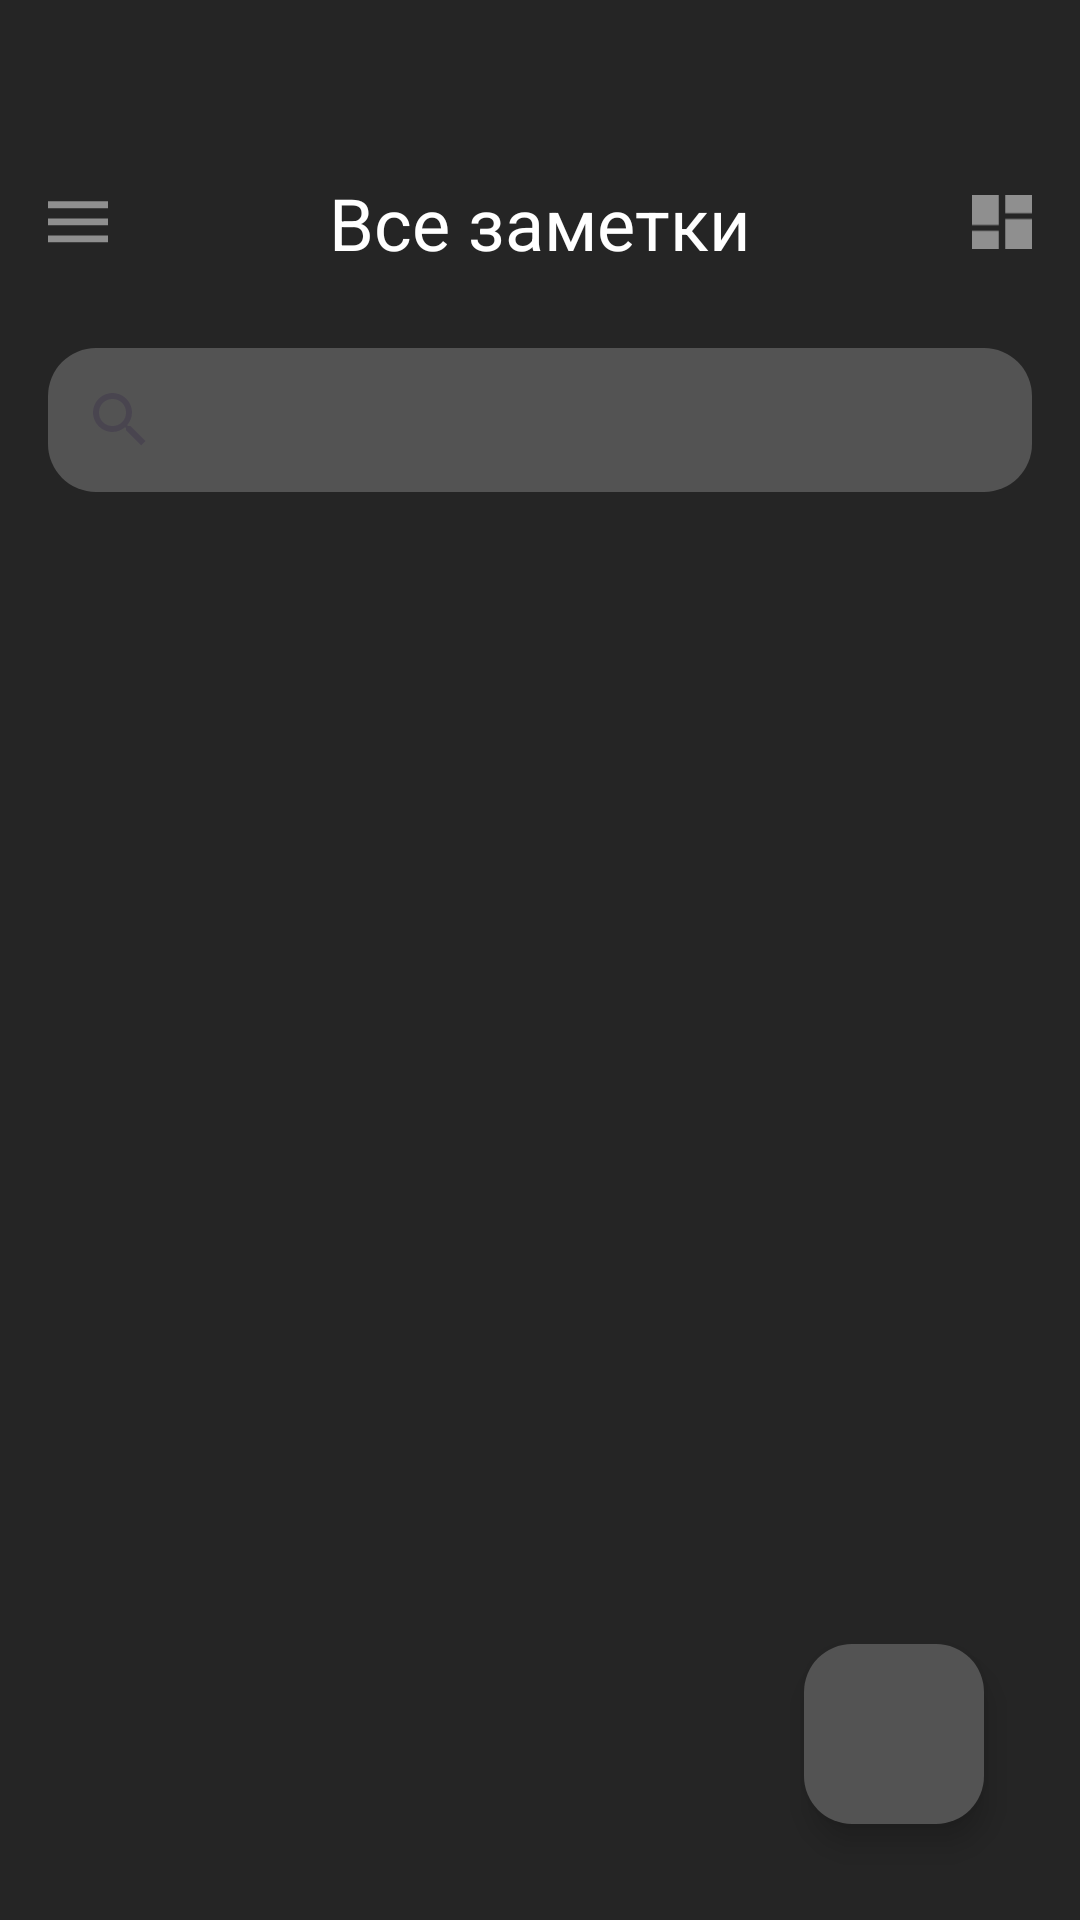

Screen size 1080px×1920px. Icon name, then its box in pixels as (x1, y1, x2, y2):
grid filter: (972, 195, 1032, 249)
menu: (48, 201, 108, 243)
